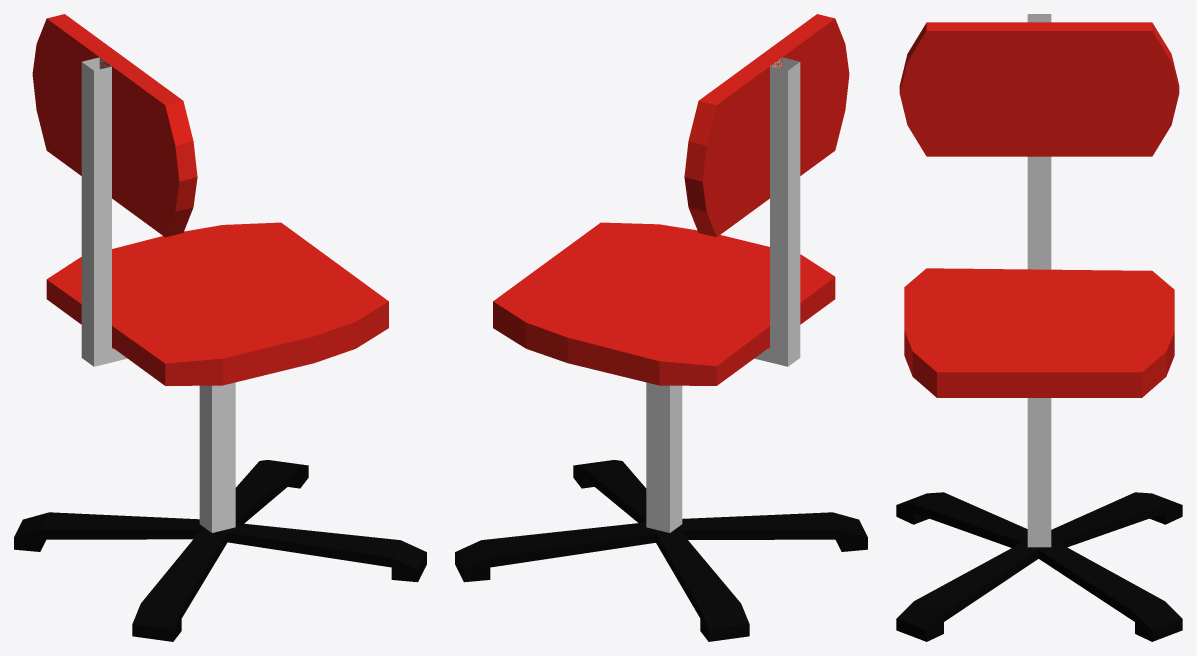
The model's file is Swivel_Chair.fbx.
3 renders of one model, left to right at view 1: azimuth 30°, elevation 25°; view 2: azimuth 150°, elevation 25°; view 3: azimuth 270°, elevation 25°, orthographic. The views are drawn at different scales.
Visible parts, largest first — view 1: Cube.002; view 2: Cube.002; view 3: Cube.002.
Boxes of the visible parts, x1,y1,x2,y2 form: Cube.002: [14, 14, 426, 641]; Cube.002: [455, 14, 867, 641]; Cube.002: [896, 14, 1182, 641].
Size of the model in its own units: 165 by 280 by 146.
